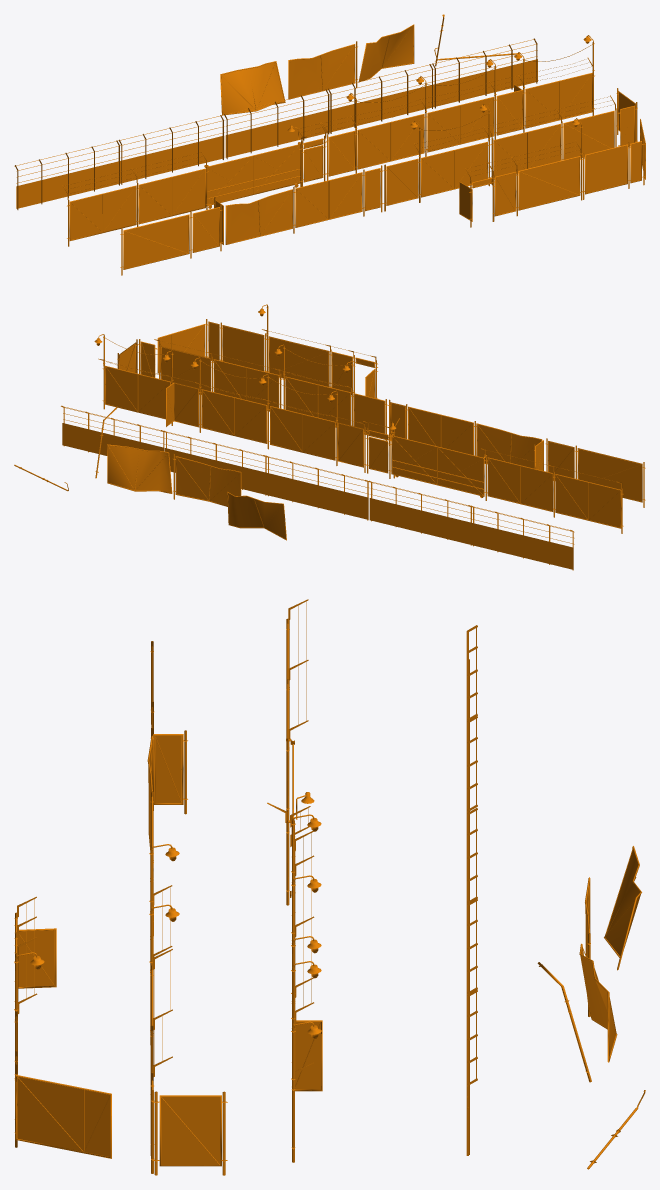
The model's file is fence_met.obj.
3 views of the same model, one above another, from view 1: azimuth 30°, elevation 25°; view 2: azimuth 150°, elevation 25°; view 3: azimuth 270°, elevation 25° (orthographic). The views are drawn at different scales.
Parts seen in each view (by area): view 1: (null); view 2: (null); view 3: (null).
Part boxes in pixels (x1,y1,x2,y2): (null): [14, 14, 645, 275]; (null): [14, 304, 645, 570]; (null): [14, 599, 645, 1175].
Bounding box in the file's own units: 31.04 × 4.6 × 17.66.
